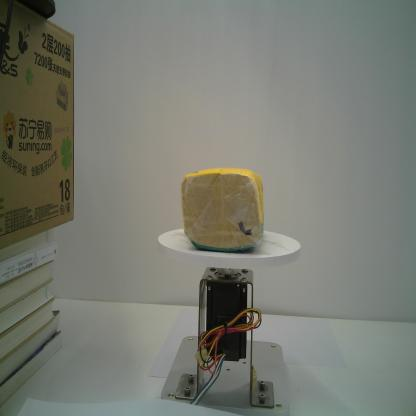Tissue: (180, 165, 265, 253)
